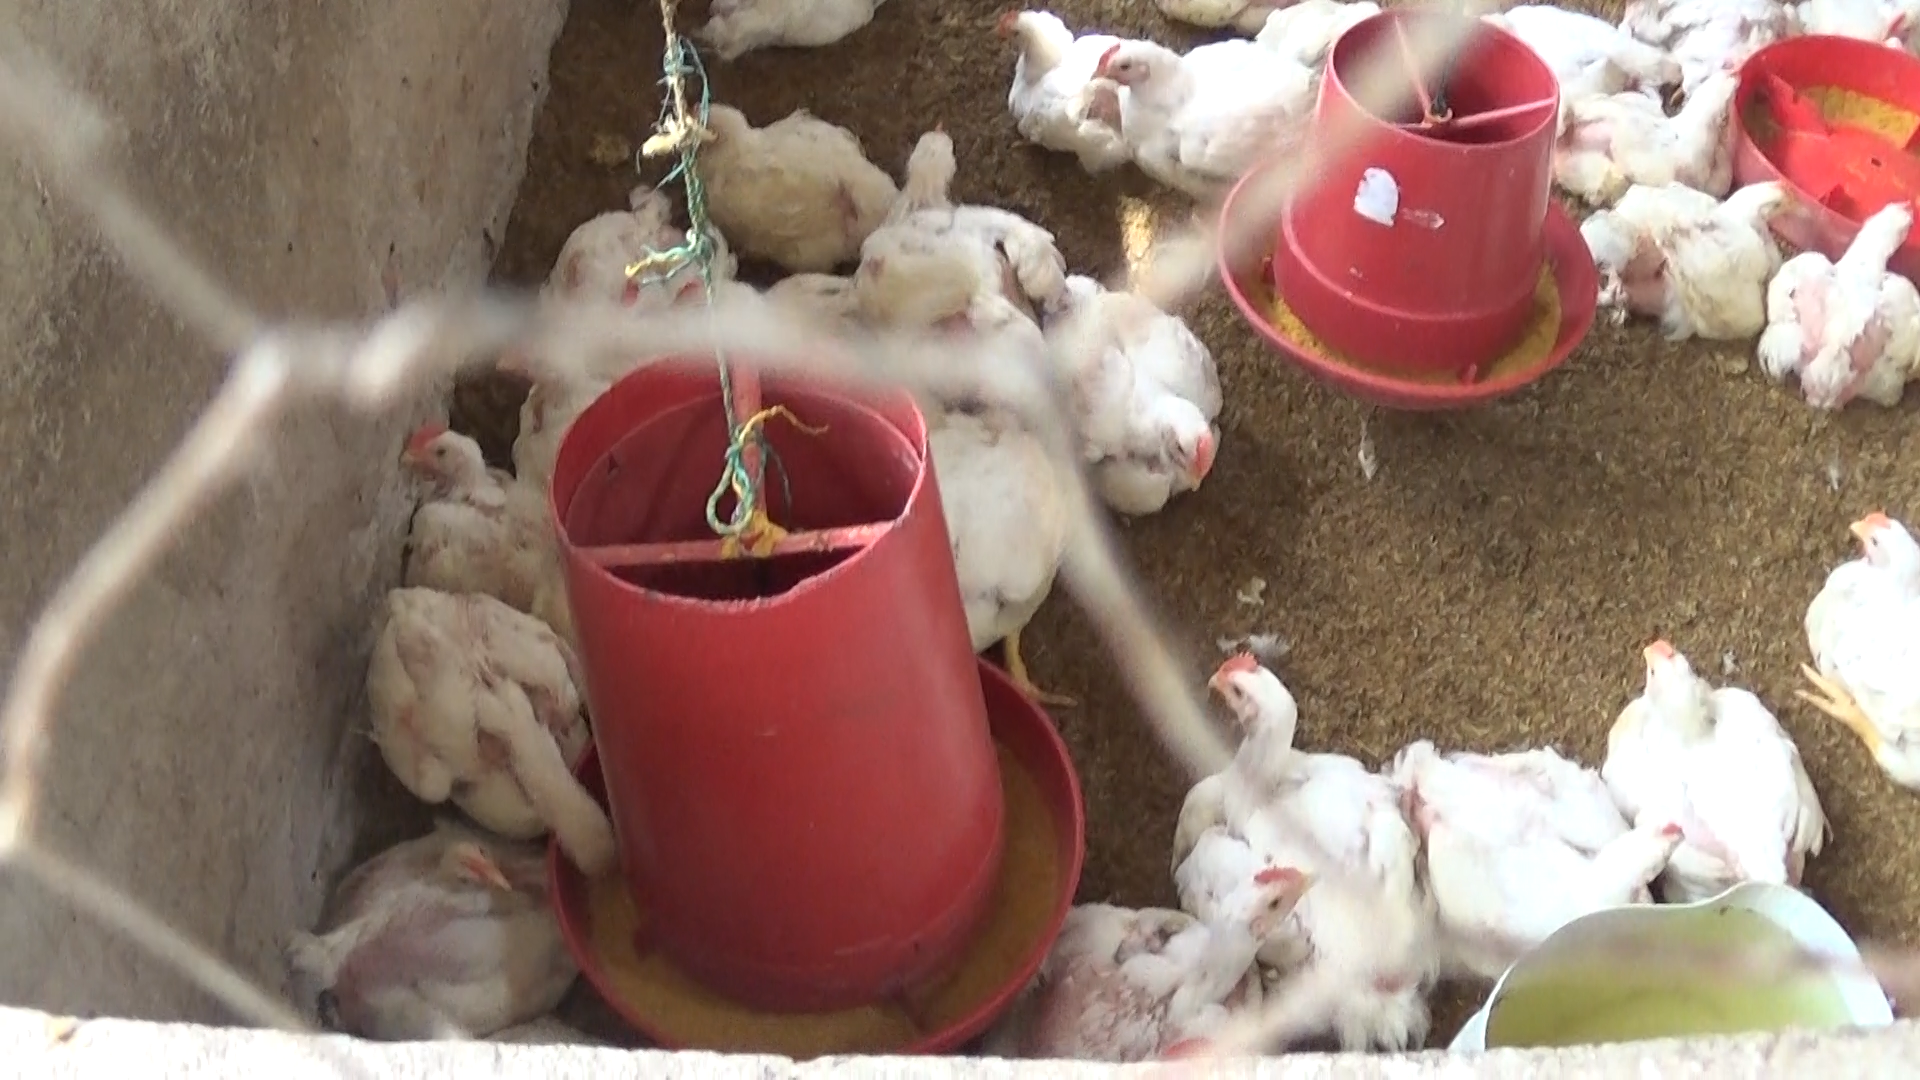Pollos: (1155, 640, 1451, 1043), (349, 578, 637, 884), (1379, 719, 1676, 972), (1015, 839, 1323, 1065), (281, 812, 587, 1036), (895, 382, 1092, 717), (1601, 637, 1841, 905), (1042, 272, 1241, 520), (852, 113, 1054, 332), (1567, 166, 1800, 352), (1091, 24, 1325, 198), (675, 94, 916, 258), (1749, 198, 1916, 429), (1796, 498, 1920, 803), (390, 419, 553, 626), (971, 7, 1166, 144), (1588, 51, 1746, 204)
